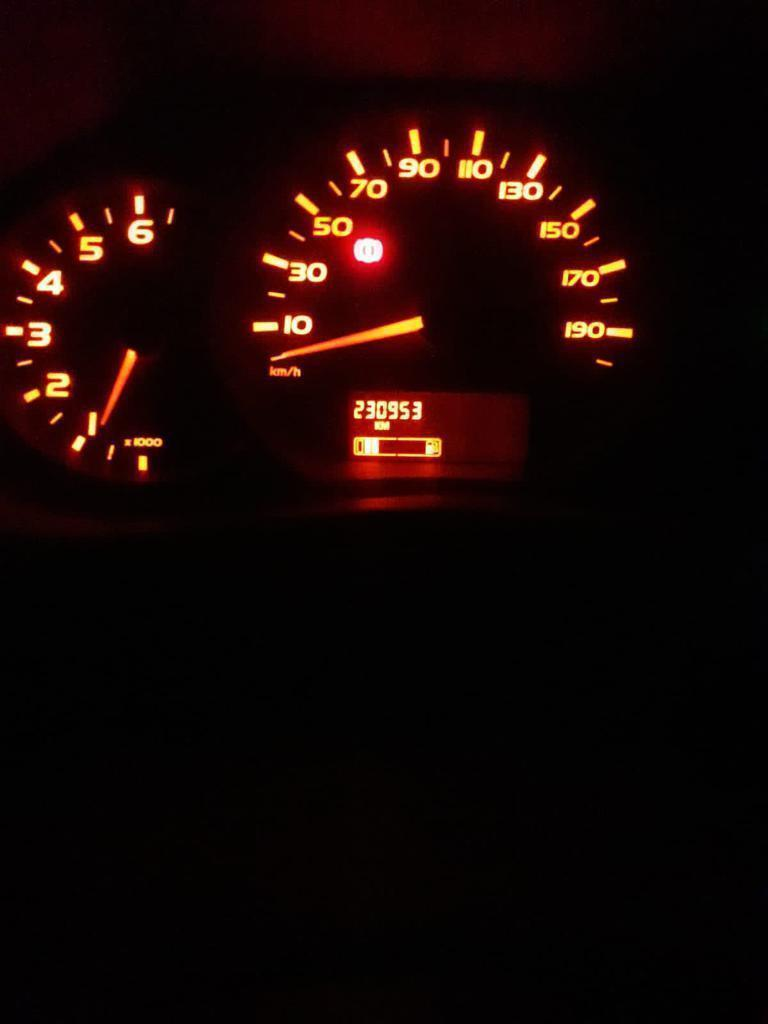0: (375, 399, 387, 420)
2: (353, 399, 364, 420)
3: (412, 399, 422, 421), (365, 399, 375, 420)
5: (398, 400, 412, 420)
9: (387, 399, 399, 420)
X: (380, 421, 391, 431), (373, 420, 380, 430)
odometer: (339, 384, 535, 471)
